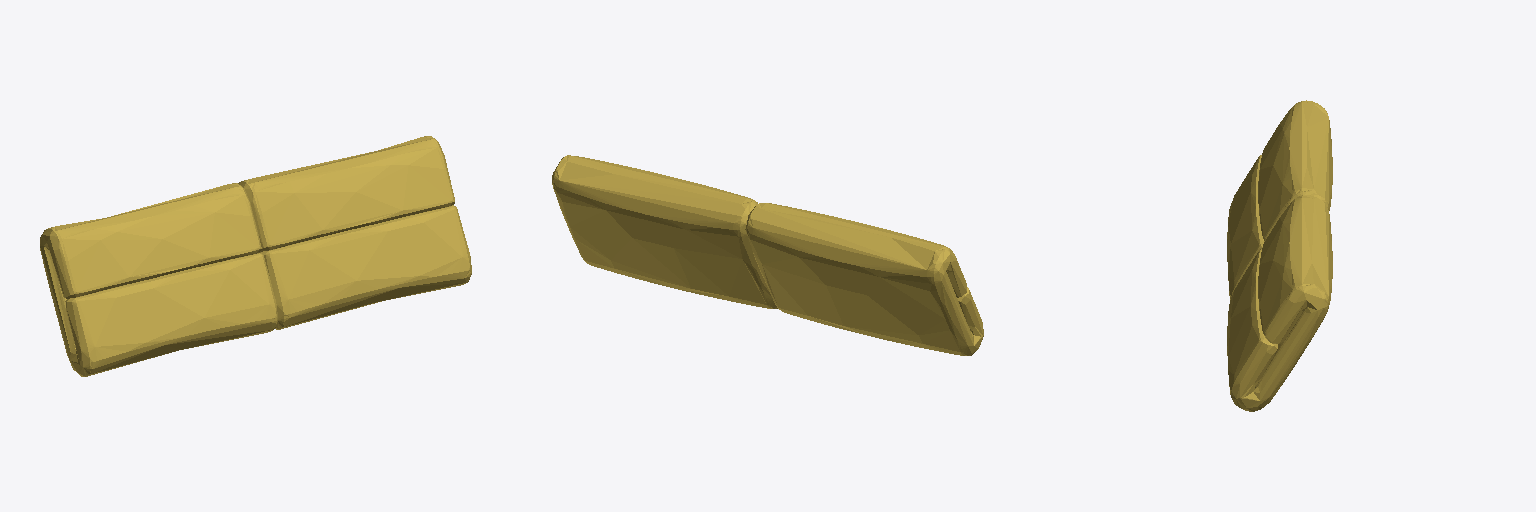
3 renders of one model, left to right at view 1: azimuth 30°, elevation 25°; view 2: azimuth 150°, elevation 25°; view 3: azimuth 270°, elevation 25°, orthographic.
Parts seen in each view (by area): view 1: Box865; view 2: Box865; view 3: Box865.
Part boxes in pixels (left/top/right/bottom): Box865: left=40, top=136, right=471, bottom=376; Box865: left=552, top=155, right=983, bottom=355; Box865: left=1227, top=100, right=1332, bottom=411.
Bounding box in the file's own units: 1277 × 394 × 298.
1 materials, 1 textured.